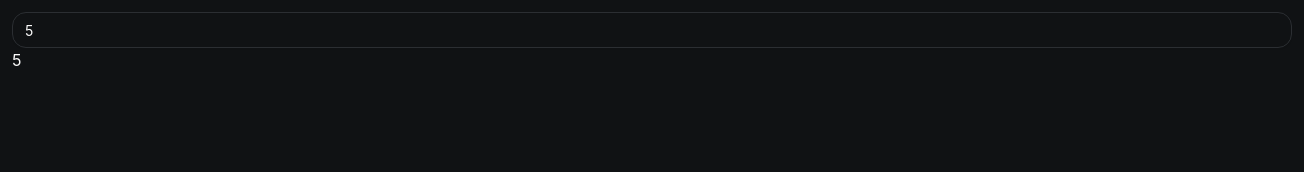
IntegerInput — dia do cartão (1..31) › rejeita 0, 32 e 99 no blur (clamp para a faixa)
Later steps or results of the test are not shown.
Replace the text in the field named "campo" with "0" at (652, 30), box [12,12,1292,48]
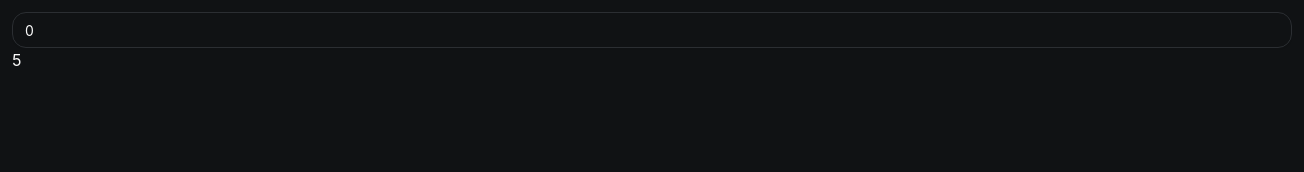
Leave the field named "campo", box [12,12,1292,48]
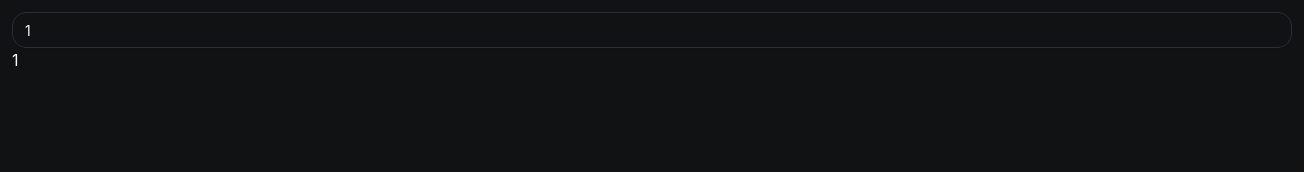
Check: the field named "campo" holds "1", box [12,12,1292,48]
